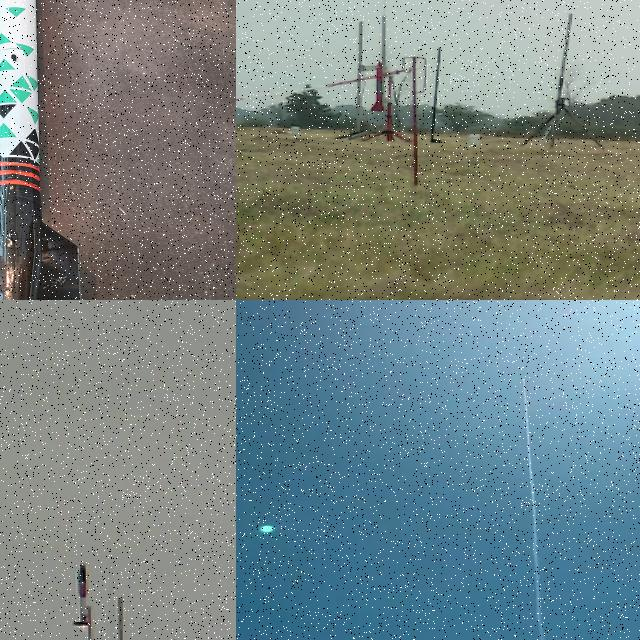Rocket: (72, 562, 92, 626), (369, 60, 386, 112), (522, 378, 526, 380)
